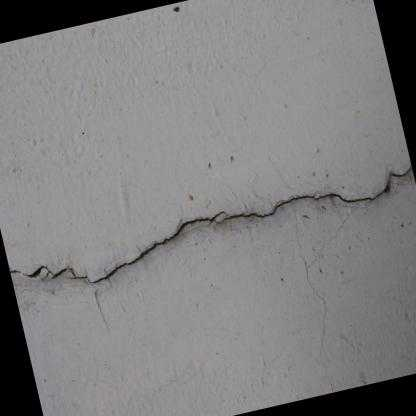crack: (69, 211, 226, 283), (213, 167, 410, 223), (293, 212, 348, 393), (9, 265, 52, 278), (51, 267, 75, 278)
